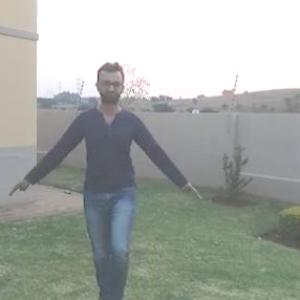land: (22, 63, 188, 285)
